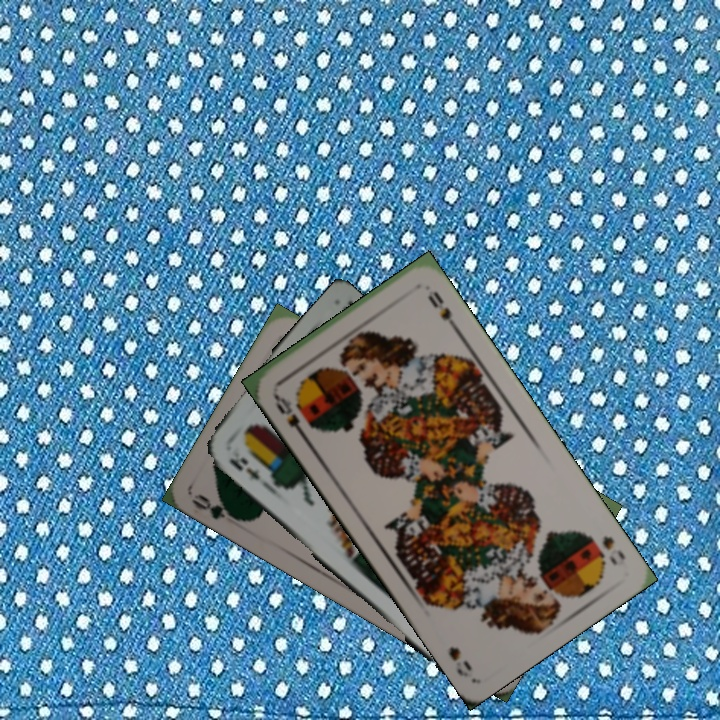EK: (225, 453, 263, 483)
GO: (189, 489, 246, 524)
SO: (269, 390, 309, 441), (598, 531, 628, 568)
